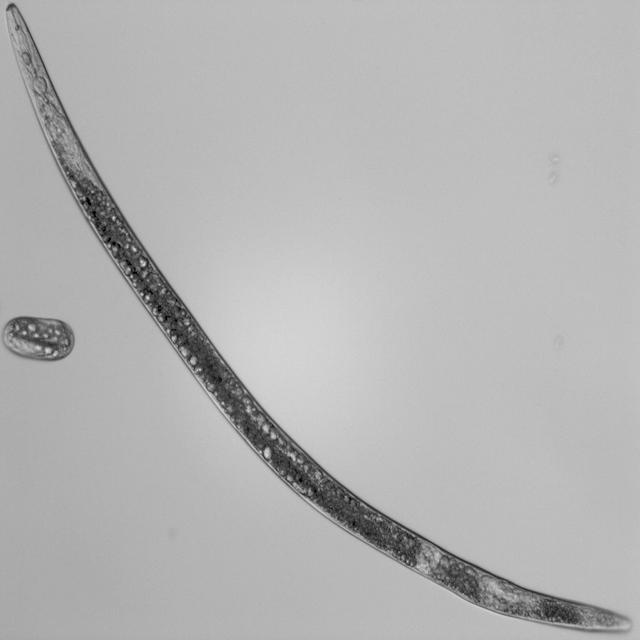Pratylenchus: (4, 4, 632, 636)
